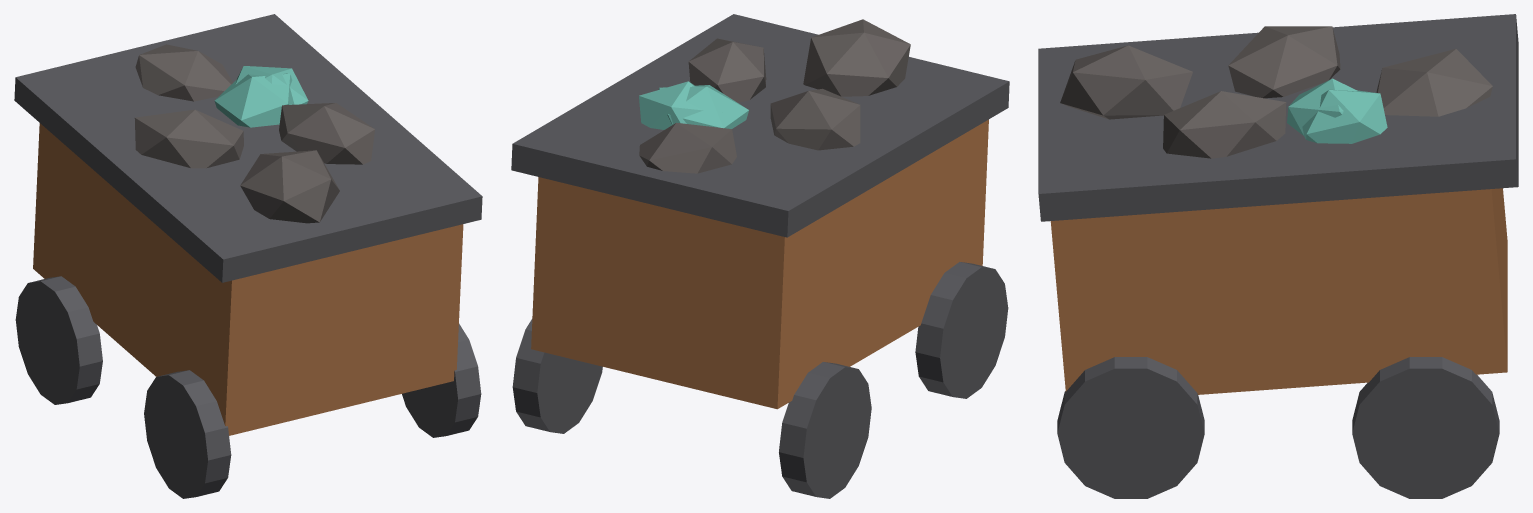
File: ore_cart.glb
3 renders of one model, left to right at view 1: azimuth 30°, elevation 25°; view 2: azimuth 150°, elevation 25°; view 3: azimuth 270°, elevation 25°, orthographic. The views are drawn at different scales.
Parts seen in each view (by area): view 1: ore_cart; view 2: ore_cart; view 3: ore_cart.
Boxes of the visible parts, box(x1,y1,x2,y2) form: ore_cart: box(14, 14, 482, 498); ore_cart: box(511, 14, 1009, 498); ore_cart: box(1038, 14, 1518, 498).
Bounding box in the file's own units: 0.59 × 0.6465 × 0.7815.
